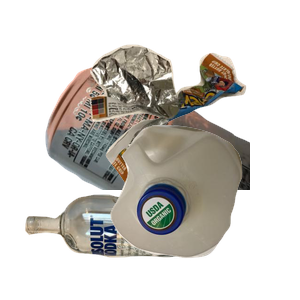glass: (22, 192, 234, 300)
metal: (43, 58, 283, 238)
plastic: (108, 123, 300, 300)
trash: (88, 42, 300, 219)
